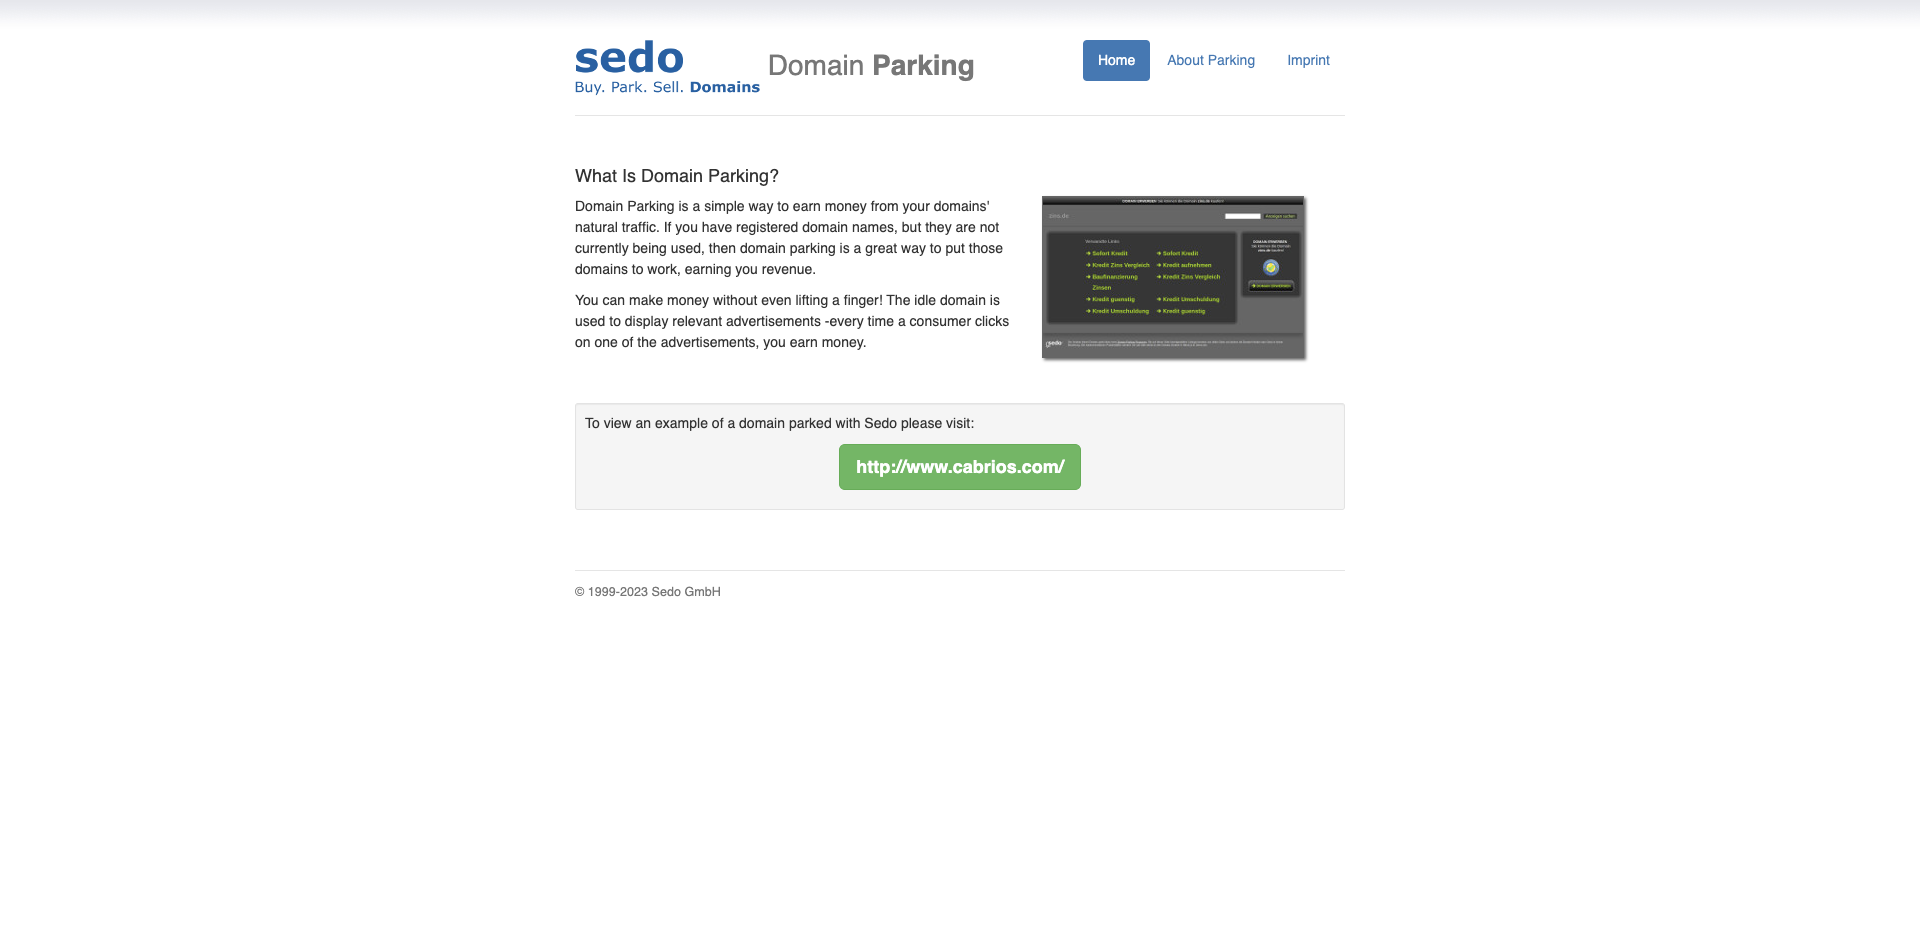button: (839, 444, 1081, 490)
link: (1152, 40, 1270, 81), (1272, 40, 1344, 81), (1082, 40, 1150, 81)
